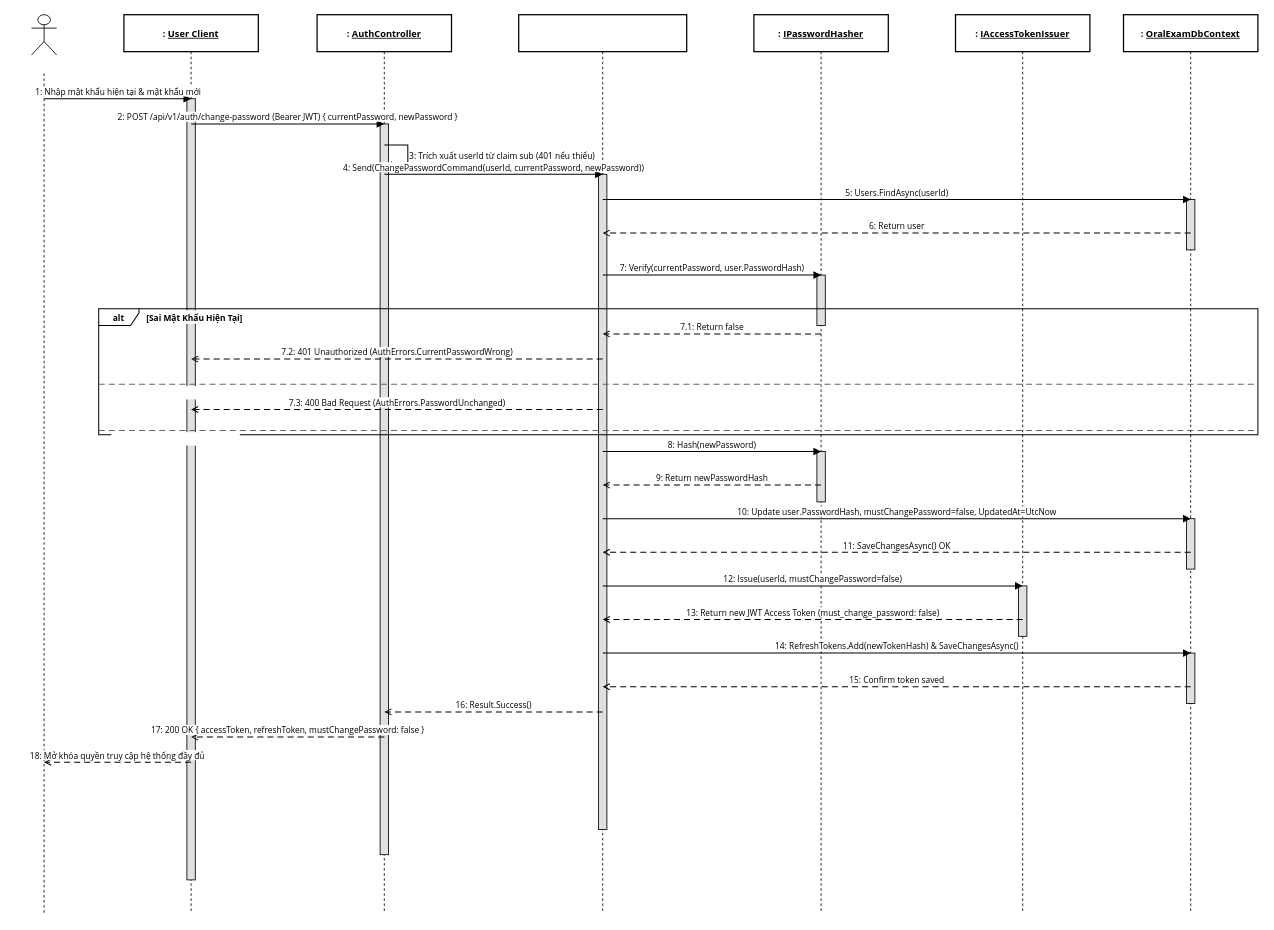
This 1274x930 diagram has some shape labels left out. The centre of each missing label's shape, as x and y in pixels:
: ChangePasswordCommandHandler: (x=602, y=33)
: Người dùng: (x=44, y=34)
[Mật Khẩu Mới Hợp Lệ]: (x=175, y=438)
[Trùng Mật Khẩu Cũ]: (x=169, y=392)
